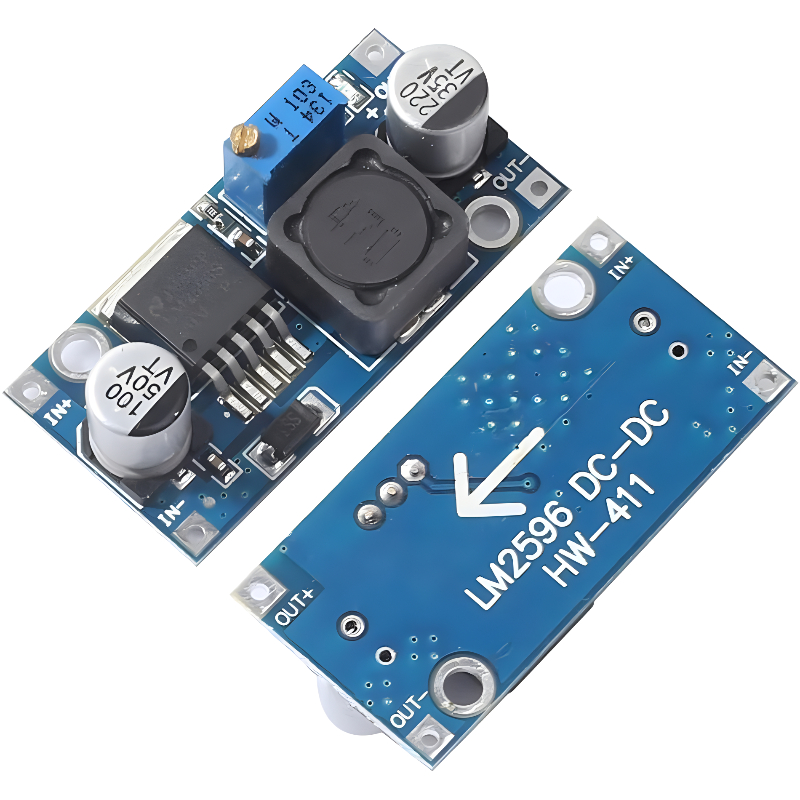Induktor: (266, 130, 470, 361)
